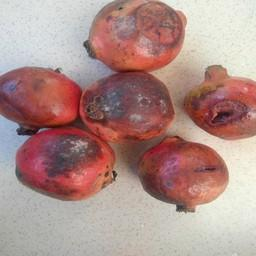Bad_pomegranate: (12, 128, 115, 204), (81, 0, 190, 71), (137, 138, 230, 216), (81, 70, 178, 142), (3, 61, 80, 132), (182, 70, 255, 144)
